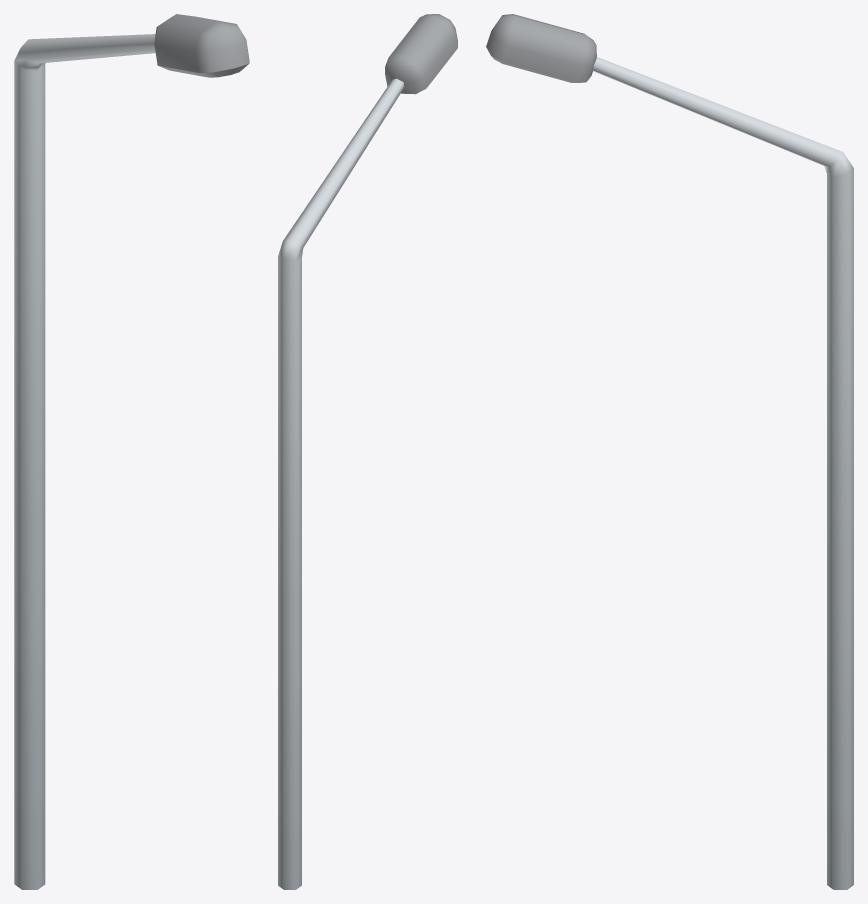
The model's file is city2-lamppost-01.glb.
3 views of the same model, side by side, from view 1: azimuth 30°, elevation 25°; view 2: azimuth 150°, elevation 25°; view 3: azimuth 270°, elevation 25° (orthographic). The views are drawn at different scales.
Visible parts, largest first — view 1: Lamppost_01; view 2: Lamppost_01; view 3: Lamppost_01.
Boxes of the visible parts, left/top/right/bottom form: Lamppost_01: left=14, top=14, right=249, bottom=889; Lamppost_01: left=278, top=14, right=457, bottom=889; Lamppost_01: left=486, top=14, right=853, bottom=889.
Bounding box in the file's own units: 0.3688 × 6.92 × 2.66.
Materials: 1 (1 with a texture image).
